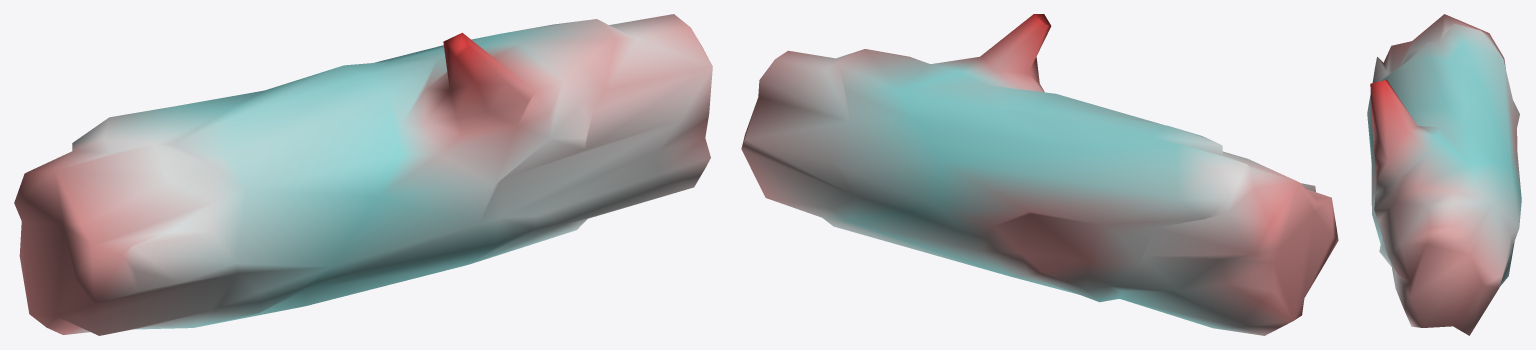
Rendered from Dead Log Small.fbx.
The picture shows the model from 3 angles, left to right: view 1: azimuth 30°, elevation 25°; view 2: azimuth 150°, elevation 25°; view 3: azimuth 270°, elevation 25°; orthographic projection. The views are drawn at different scales.
Visible parts, largest first — view 1: Dead_Log_Small; view 2: Dead_Log_Small; view 3: Dead_Log_Small.
Boxes of the visible parts, box(x1,y1,x2,y2) form: Dead_Log_Small: box(14, 14, 712, 335); Dead_Log_Small: box(741, 14, 1338, 335); Dead_Log_Small: box(1367, 14, 1521, 335).
Bounding box in the file's own units: 412 × 161 × 122.
